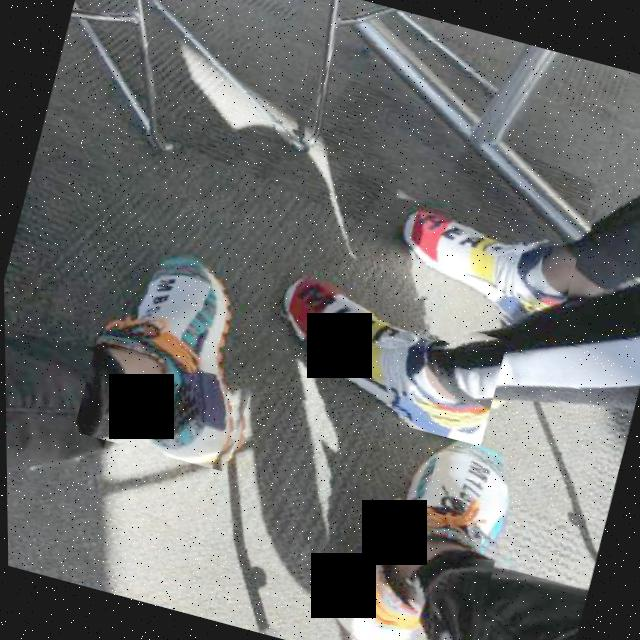shoe: (69, 237, 289, 476), (317, 417, 522, 640), (260, 272, 510, 447), (379, 201, 579, 336)
